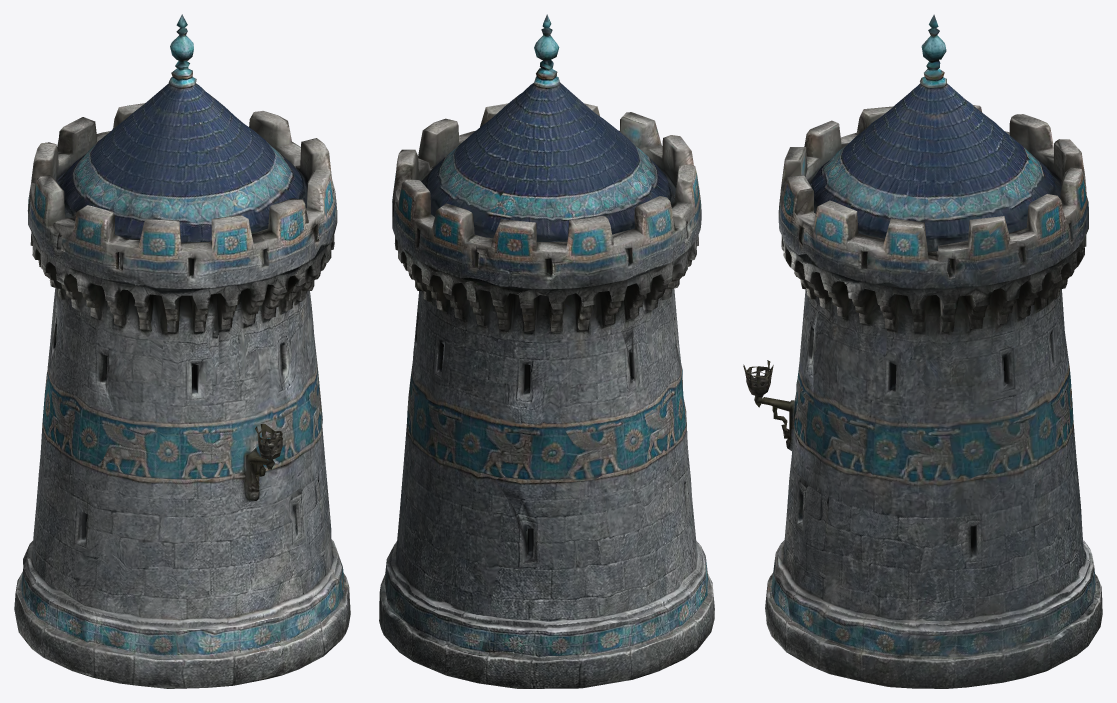
File: castle_tower_stone_2.glb
3 renders of one model, left to right at view 1: azimuth 30°, elevation 25°; view 2: azimuth 150°, elevation 25°; view 3: azimuth 270°, elevation 25°, orthographic.
Parts seen in each view (by area): view 1: tripo_node_5e612e0f-af12-4dd2-9691-35c5821c578d; view 2: tripo_node_5e612e0f-af12-4dd2-9691-35c5821c578d; view 3: tripo_node_5e612e0f-af12-4dd2-9691-35c5821c578d.
Part boxes in pixels (x1,y1,x2,y2): tripo_node_5e612e0f-af12-4dd2-9691-35c5821c578d: (14, 14, 350, 688); tripo_node_5e612e0f-af12-4dd2-9691-35c5821c578d: (379, 14, 714, 688); tripo_node_5e612e0f-af12-4dd2-9691-35c5821c578d: (743, 14, 1102, 688).
Size of the model in its own units: 0.4925 by 0.9813 by 0.5274.
1 material, 1 textured.
